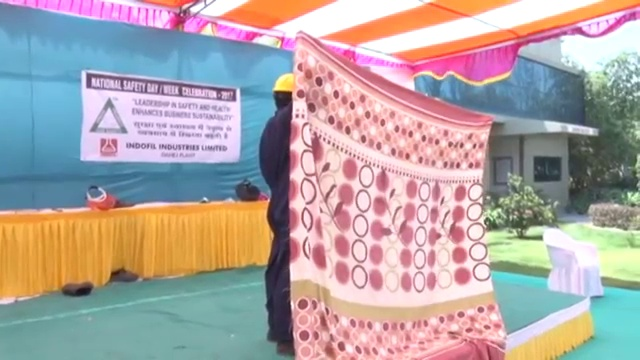helmet: (272, 71, 295, 94)
helmet_on: (271, 71, 295, 115)
person: (256, 71, 295, 357)
